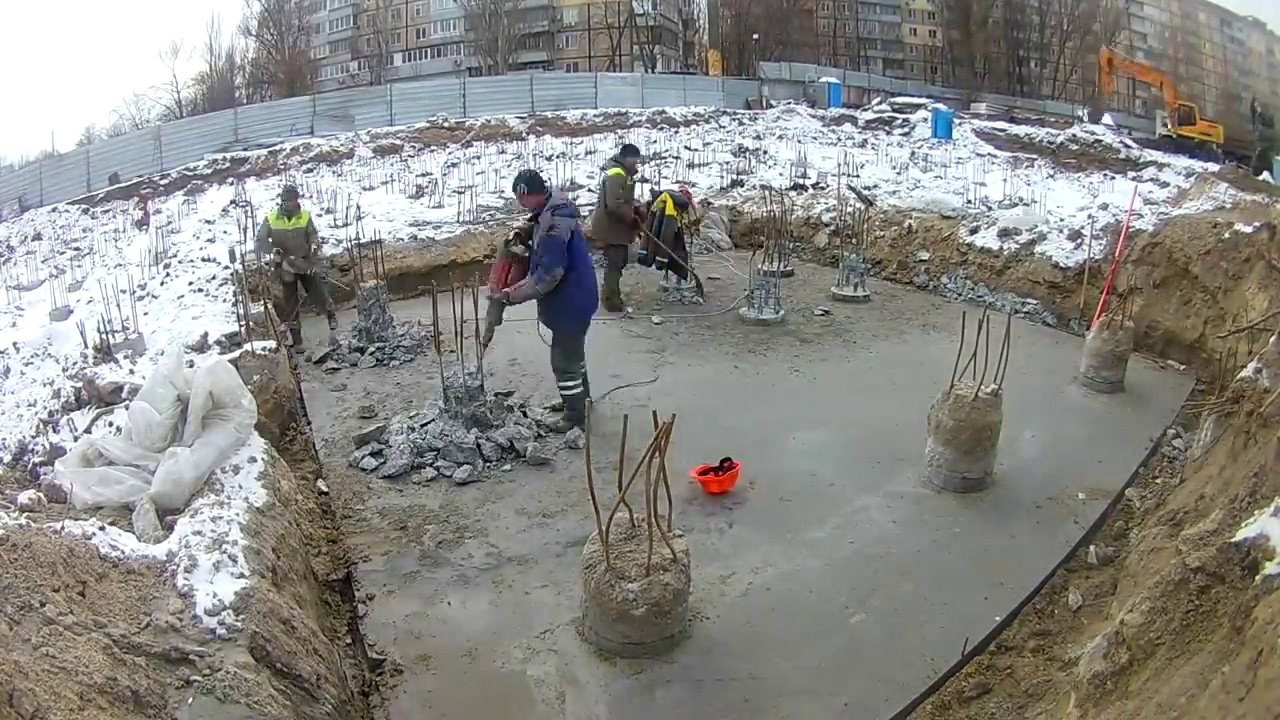helmet: (688, 458, 742, 494)
helmet-off: (510, 171, 549, 215), (610, 143, 642, 177), (278, 183, 302, 218)
person: (482, 162, 598, 433), (255, 183, 341, 353), (594, 144, 644, 318)
